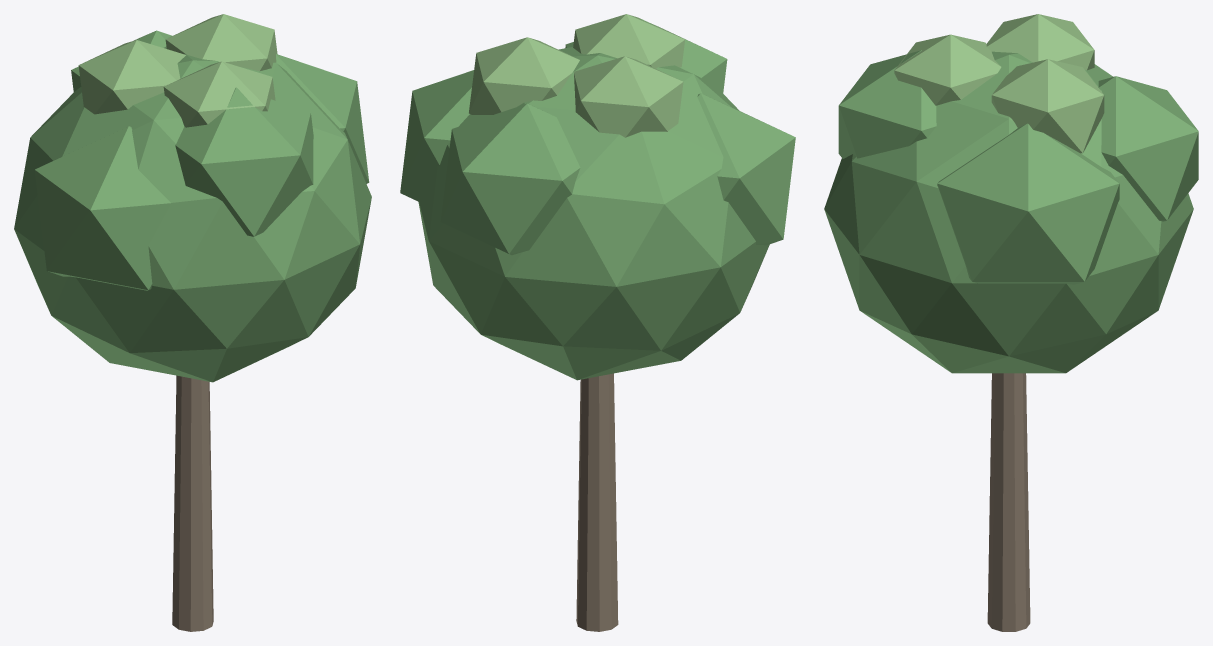
The model's file is ornamental_tree.glb.
The picture shows the model from 3 angles, left to right: view 1: azimuth 30°, elevation 25°; view 2: azimuth 150°, elevation 25°; view 3: azimuth 270°, elevation 25°; orthographic projection.
Parts seen in each view (by area): view 1: ornamental_tree; view 2: ornamental_tree; view 3: ornamental_tree.
Boxes of the visible parts, <box> form: ornamental_tree: <box>14,14,371,631</box>; ornamental_tree: <box>400,14,795,631</box>; ornamental_tree: <box>824,14,1198,631</box>.
Size of the model in its own units: 2.03 by 3.34 by 1.93.
